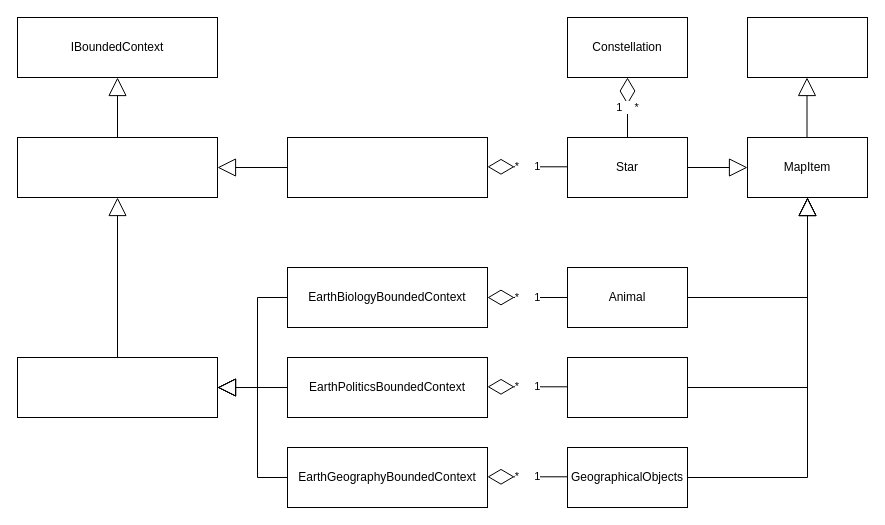
The diagram is 885 pixels wide and 525 high, and some of its shapes have lost their labels. The centre of each missing label's shape, as x and y in pixels:
"BoundedContext" goes at (117,167).
"Country" goes at (627,387).
"EarthBoundedContext" goes at (117,387).
"IMapItem" goes at (807,47).
"SpaceBoundedContext" goes at (387,167).
